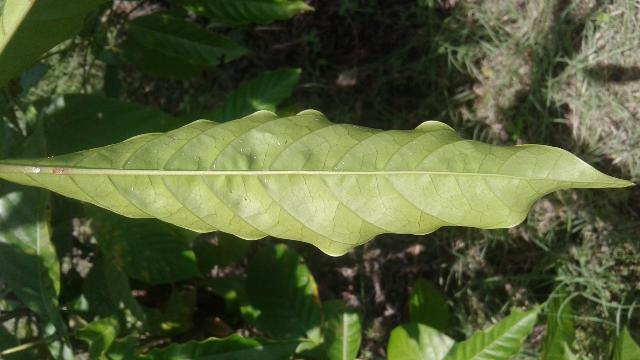healthy: (0, 109, 636, 256)
